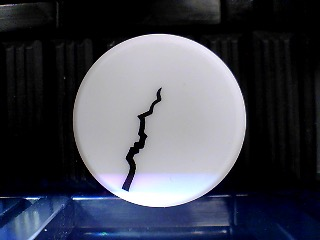CRACK: (72, 33, 247, 208)
